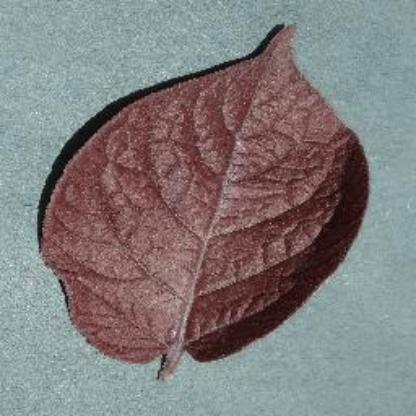Healthy-plant: (38, 23, 378, 381)
